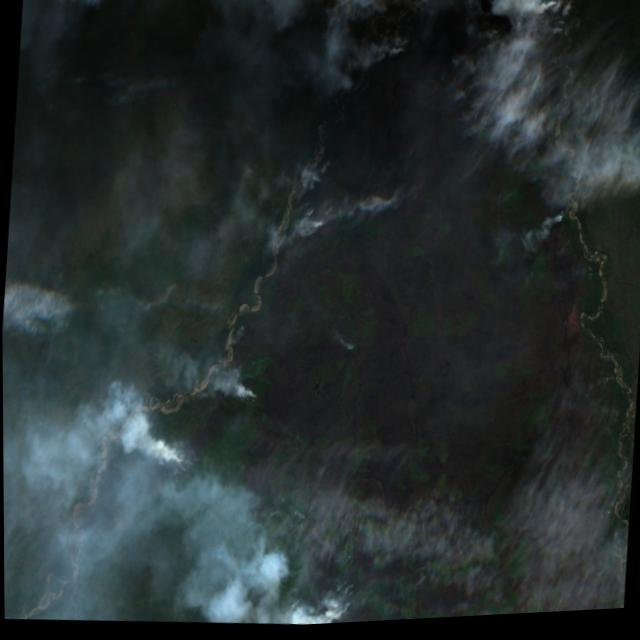fire: (370, 0, 594, 109), (136, 400, 204, 516), (277, 544, 363, 629), (290, 141, 346, 267), (230, 375, 263, 425), (544, 197, 576, 242)
